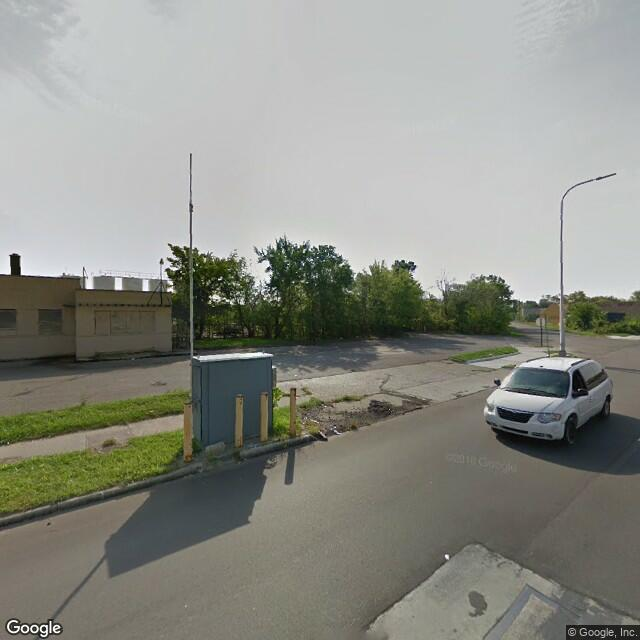litter: (441, 548, 454, 561)
